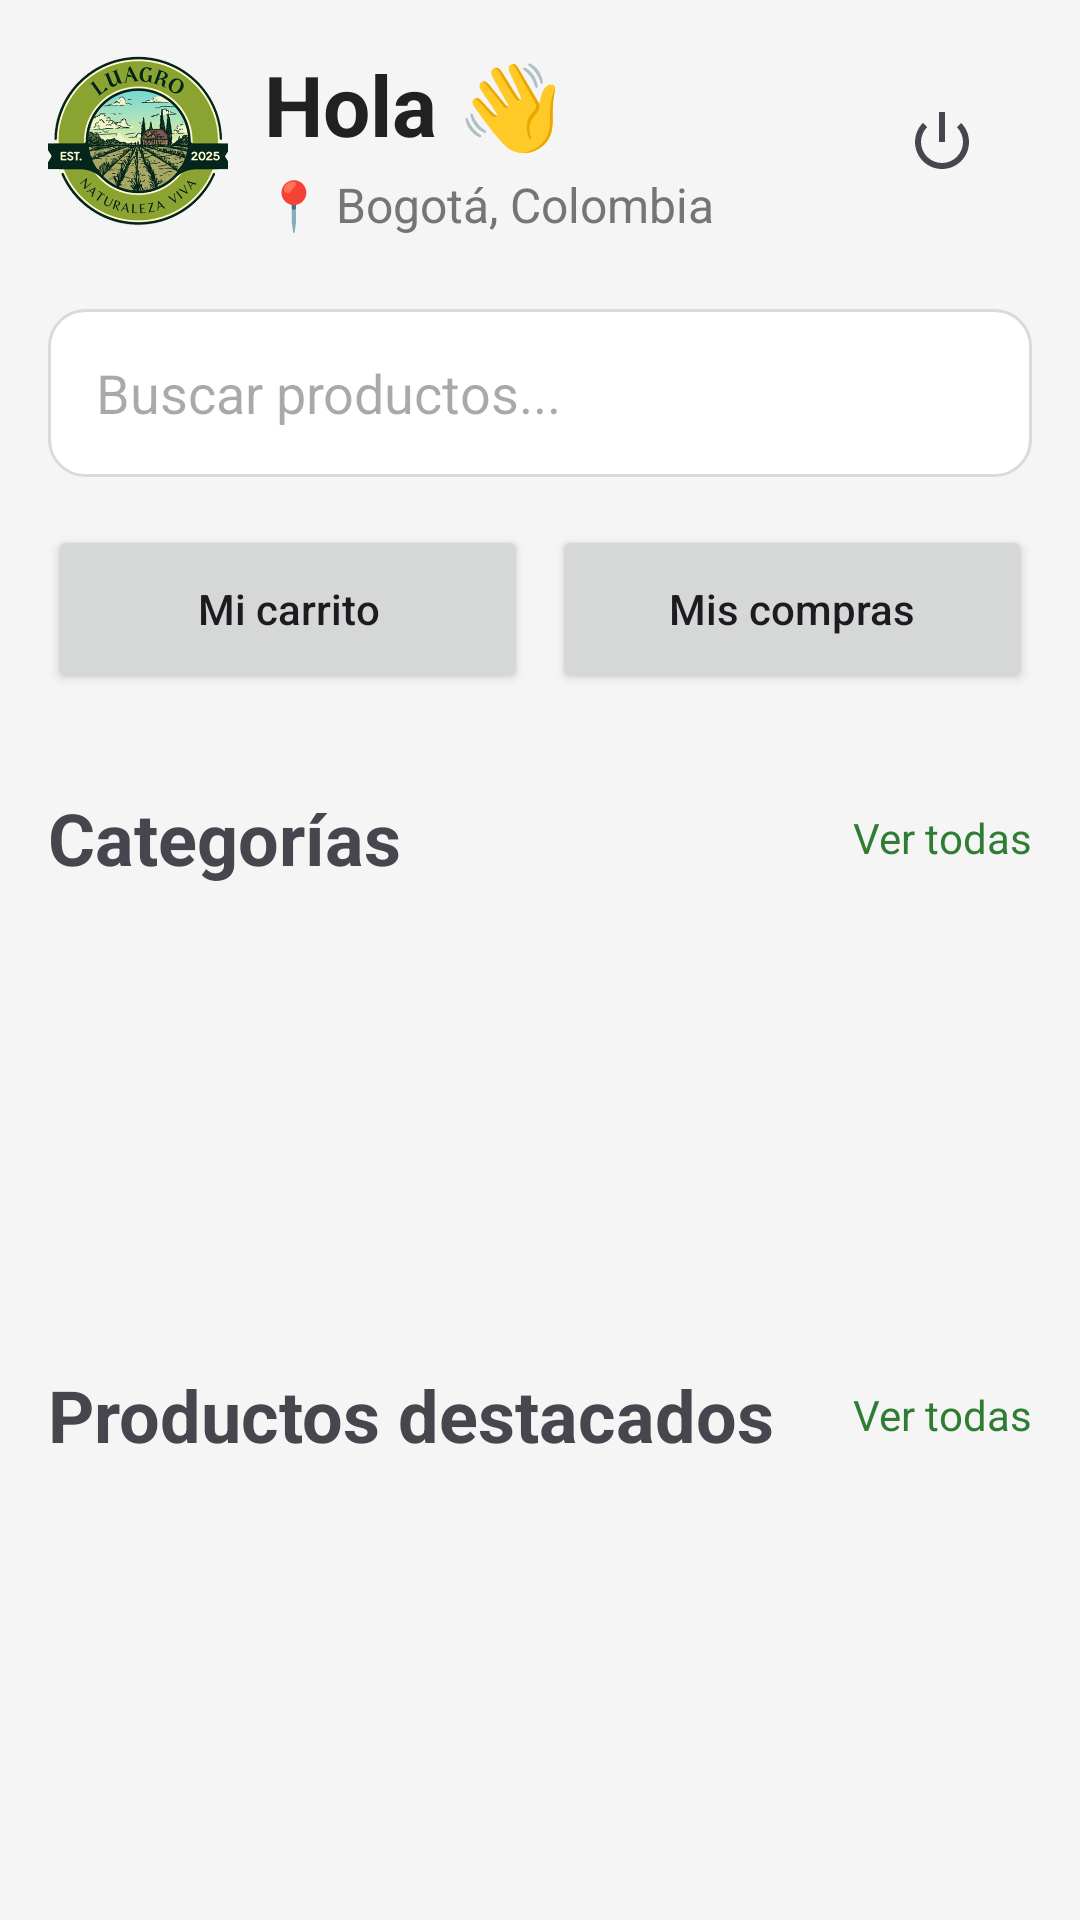

Screen size 1080x1920. Icon name, then its center in pixels as point (x, y):
Cerrar sesión: point (942, 140)
